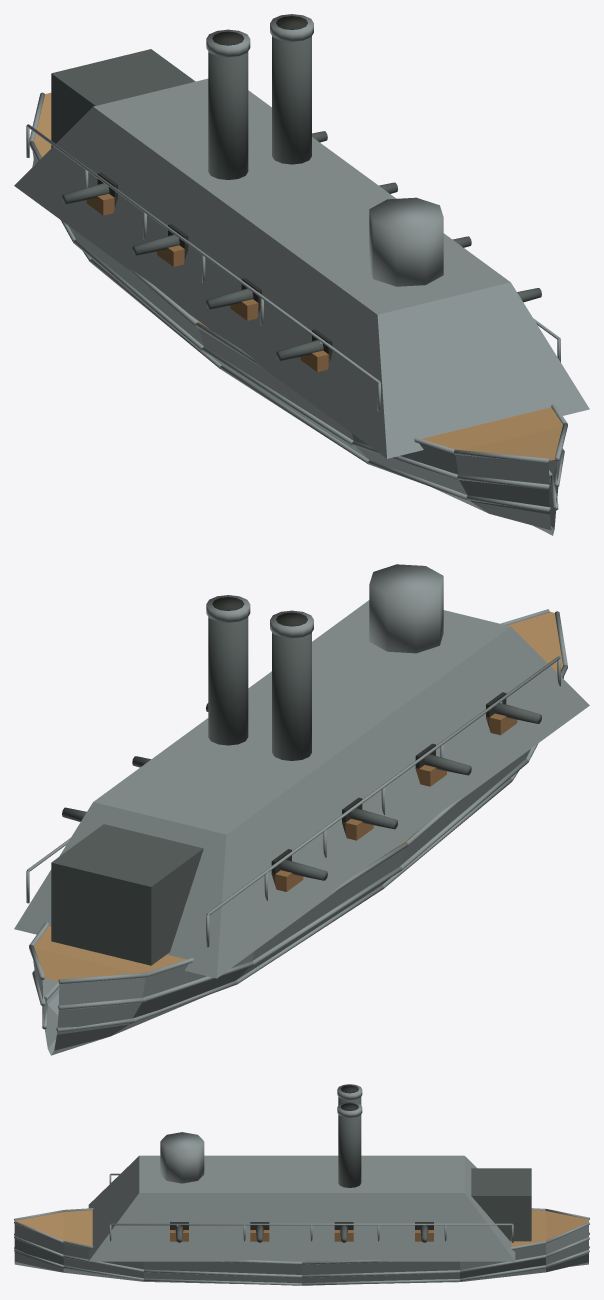
The model's file is casemate-ironclad.glb.
3 views of the same model, one above another, from view 1: azimuth 30°, elevation 25°; view 2: azimuth 150°, elevation 25°; view 3: azimuth 270°, elevation 25° (orthographic). The views are drawn at different scales.
Visible parts, largest first — view 1: sloped_casemate_geometry, unit_root_geometry; view 2: sloped_casemate_geometry, unit_root_geometry; view 3: sloped_casemate_geometry, unit_root_geometry.
Boxes of the visible parts, x1,y1,x2,y2 form: sloped_casemate_geometry: (14,78,589,458); unit_root_geometry: (26,14,567,535); sloped_casemate_geometry: (14,600,589,978); unit_root_geometry: (26,564,567,1055); sloped_casemate_geometry: (88,1155,515,1261); unit_root_geometry: (14,1084,589,1285).
Bounding box in the file's own units: 1.8 × 2.07 × 6.02.
